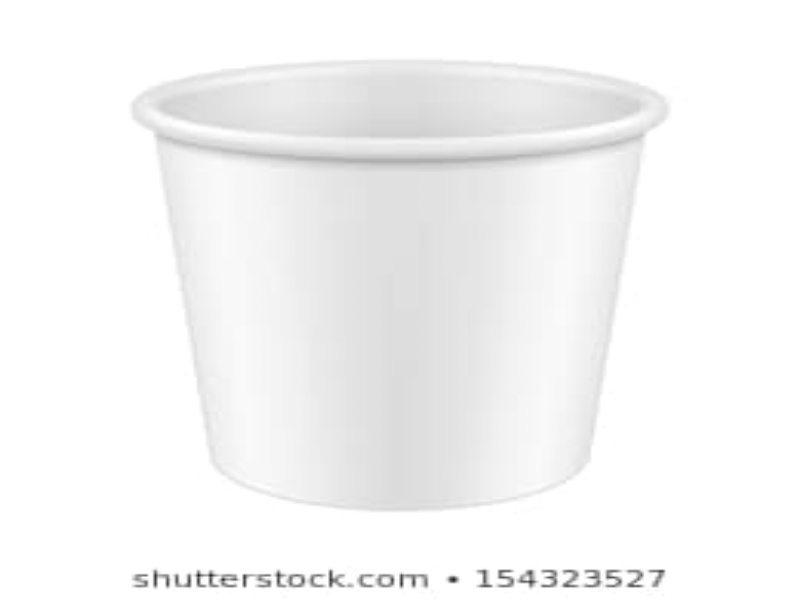plastic-cup: (130, 57, 670, 518)
